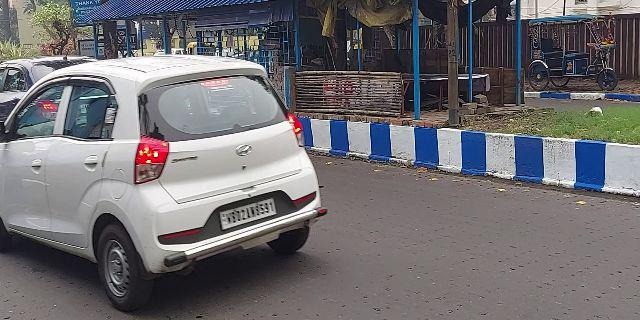Car: (1, 48, 328, 301)
